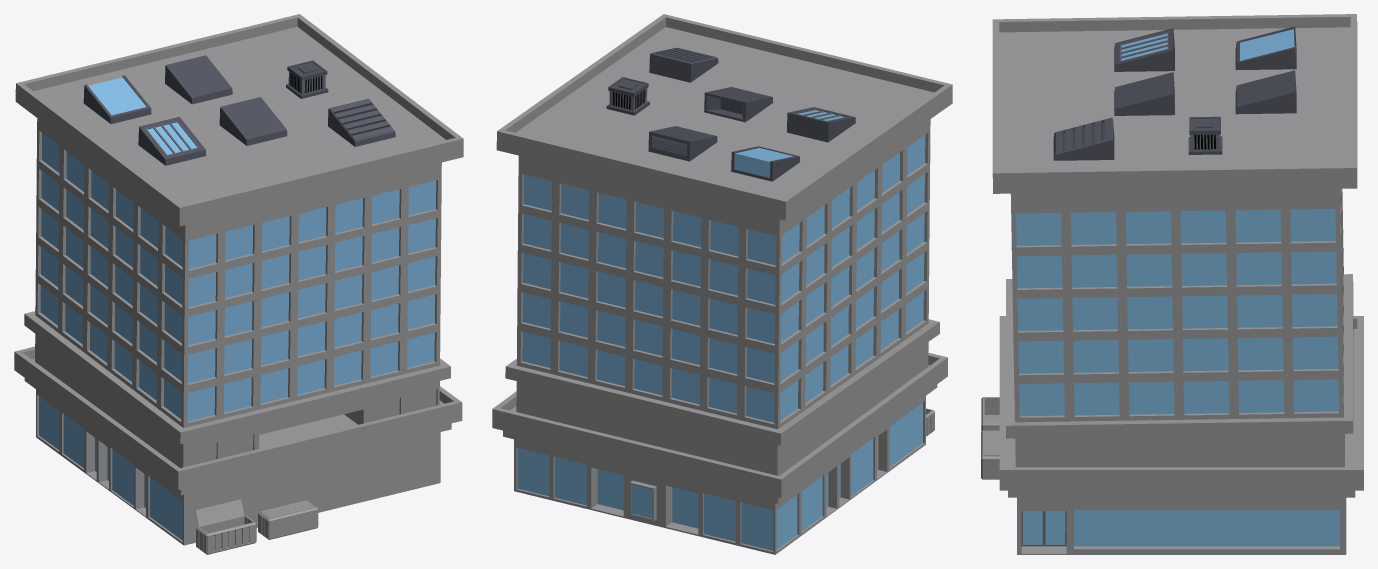
Rendered from Bank.fbx.
3 views of the same model, side by side, from view 1: azimuth 30°, elevation 25°; view 2: azimuth 150°, elevation 25°; view 3: azimuth 270°, elevation 25° (orthographic). The views are drawn at different scales.
Visible parts, largest first — view 1: office builiding, low poly store; view 2: office builiding, low poly store; view 3: office builiding, low poly store.
Boxes of the visible parts, x1,y1,x2,y2 form: office builiding: (15, 14, 463, 467); low poly store: (14, 346, 462, 554); office builiding: (496, 14, 952, 475); low poly store: (492, 352, 947, 554); office builiding: (992, 14, 1357, 467); low poly store: (981, 316, 1363, 554).
Bounding box in the file's own units: 901 × 1100 × 942.
